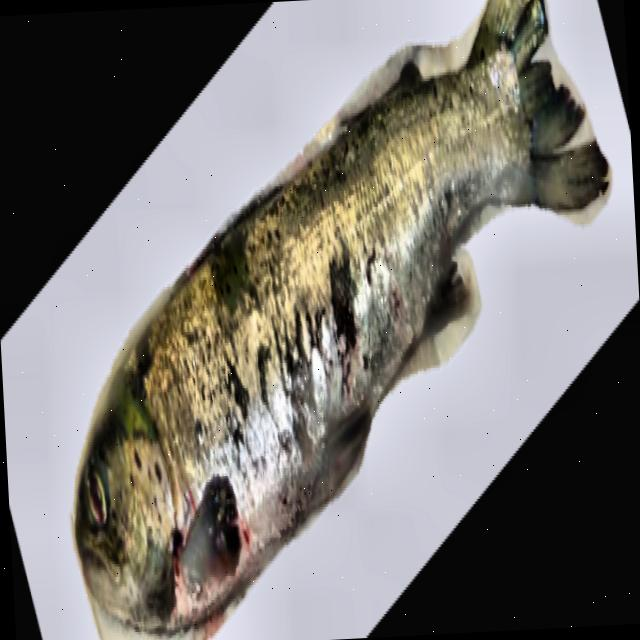mild_red: (147, 54, 529, 573)
